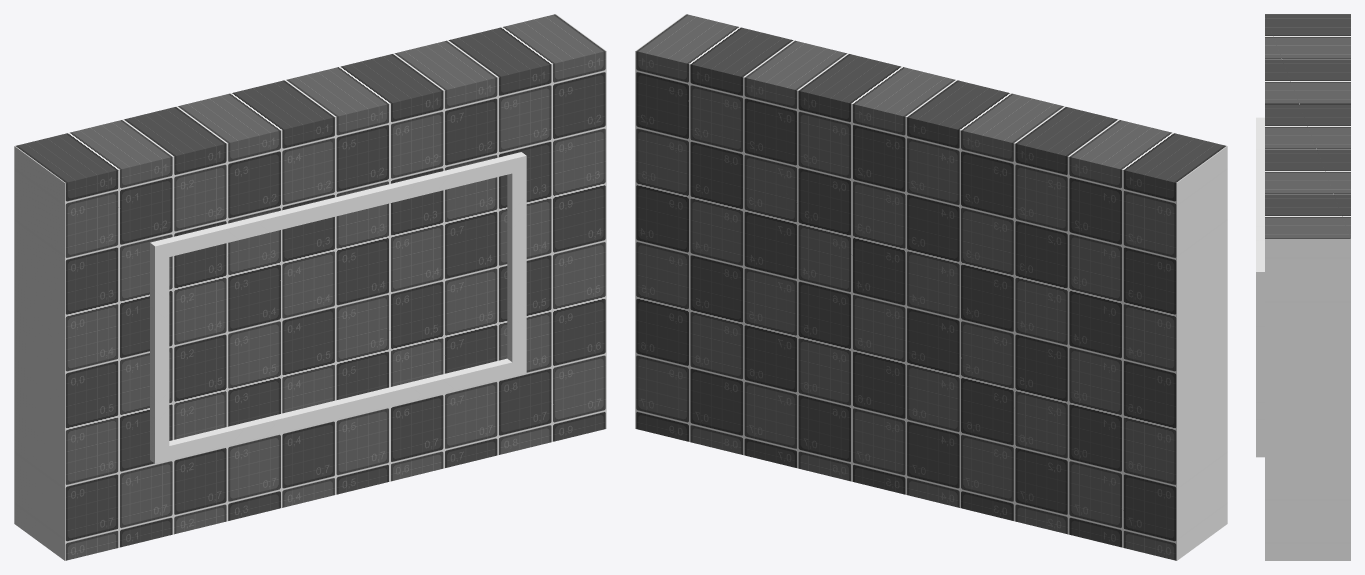
Rendered from SM_Extra_Billboard_Base_01_0.glb.
3 views of the same model, side by side, from view 1: azimuth 30°, elevation 25°; view 2: azimuth 150°, elevation 25°; view 3: azimuth 270°, elevation 25° (orthographic). The views are drawn at different scales.
Visible parts, largest first — view 1: SM_Extra_Billboard_Base_01; view 2: SM_Extra_Billboard_Base_01; view 3: SM_Extra_Billboard_Base_01.
Part boxes in pixels (<box>): SM_Extra_Billboard_Base_01: <box>14,14,606,560</box>; SM_Extra_Billboard_Base_01: <box>635,14,1227,560</box>; SM_Extra_Billboard_Base_01: <box>1256,14,1350,560</box>.
Size of the model in its own units: 6 by 4 by 1.07.
1 material, 1 textured.
